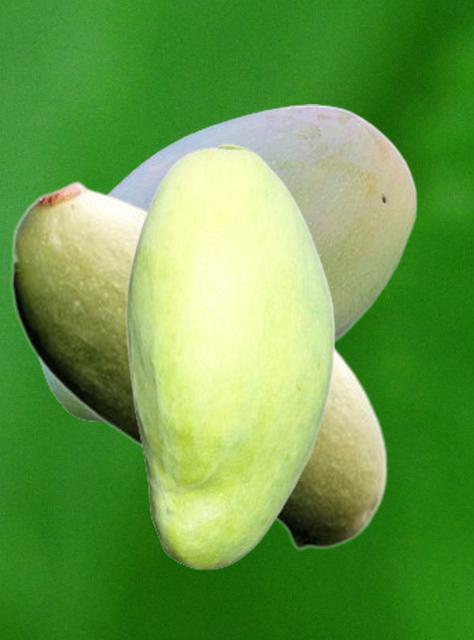green_mango: (10, 179, 387, 550), (36, 104, 417, 420), (125, 143, 334, 569)
